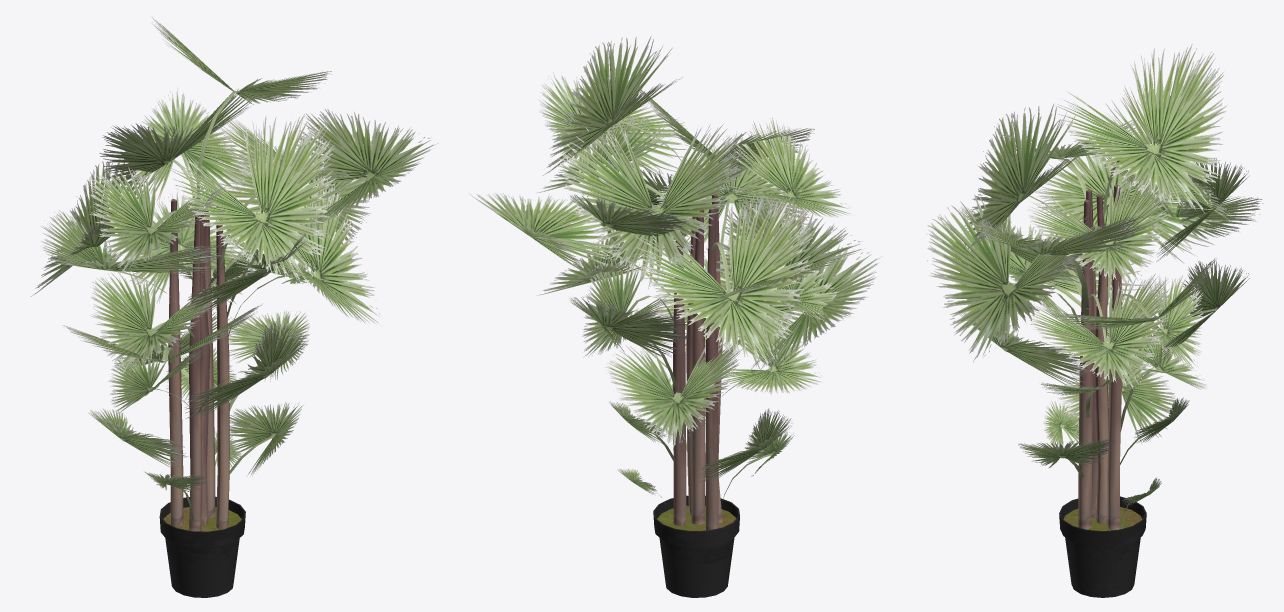
Rendered from Mesh_Plant.fbx.
3 renders of one model, left to right at view 1: azimuth 30°, elevation 25°; view 2: azimuth 150°, elevation 25°; view 3: azimuth 270°, elevation 25°, orthographic.
Visible parts, largest first — view 1: Plant; view 2: Plant; view 3: Plant.
Part boxes in pixels (x1,y1,x2,y2): Plant: (31, 17, 438, 597); Plant: (468, 35, 882, 597); Plant: (926, 44, 1263, 597).
Bounding box in the file's own units: 2.71 × 3.97 × 2.32.
